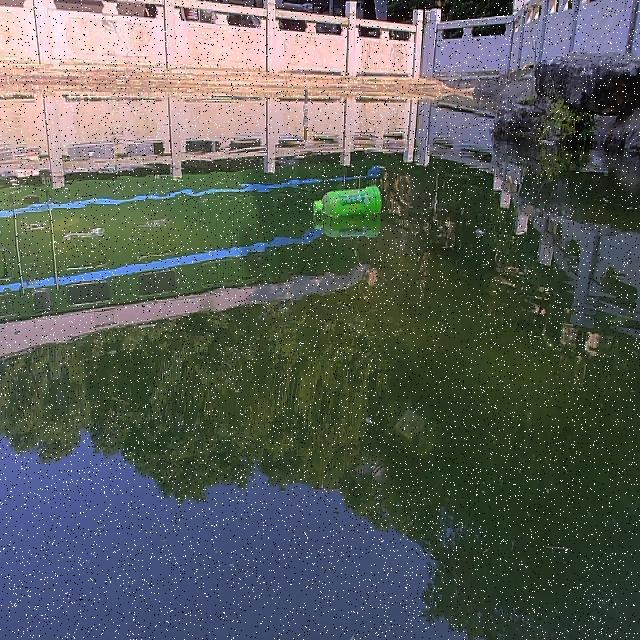bottle: (310, 184, 384, 219)
